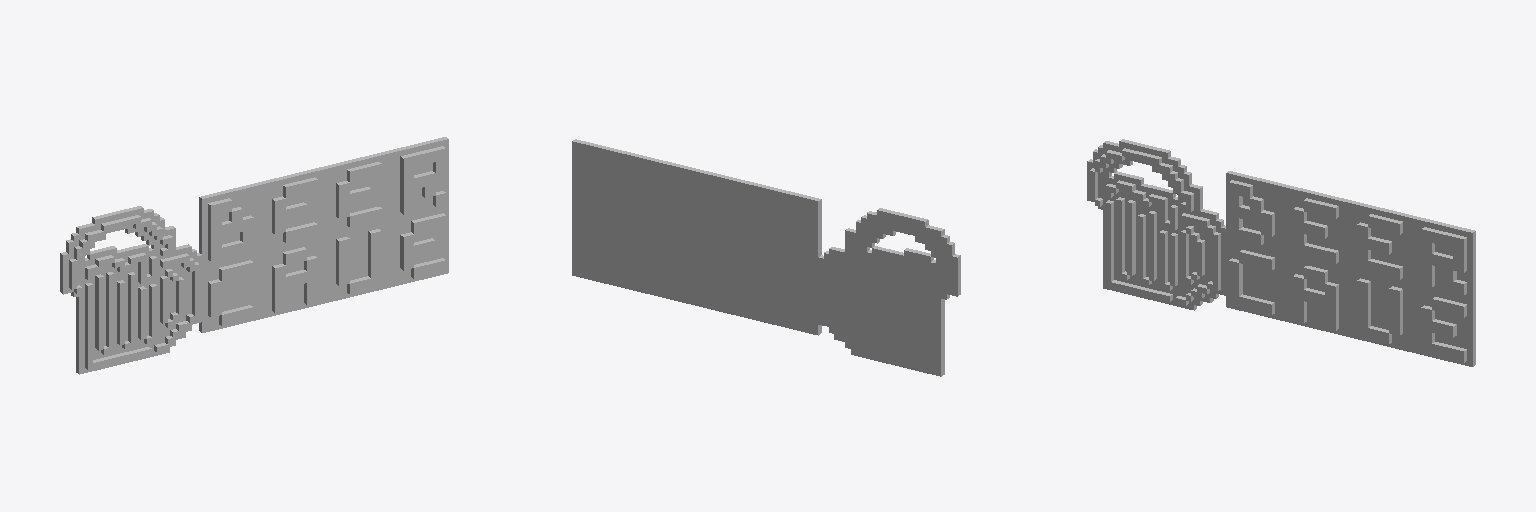
File: bar signboard 3.obj
3 views of the same model, side by side, from view 1: azimuth 30°, elevation 25°; view 2: azimuth 150°, elevation 25°; view 3: azimuth 330°, elevation 25° (orthographic).
Visible parts, largest first — view 1: object 1; view 2: object 1; view 3: object 1.
Part boxes in pixels (x1,y1,x2,y2): object 1: (60, 137, 448, 374); object 1: (572, 139, 960, 376); object 1: (1087, 139, 1475, 366).
Bounding box in the file's own units: 7.2 × 2.7 × 0.2.